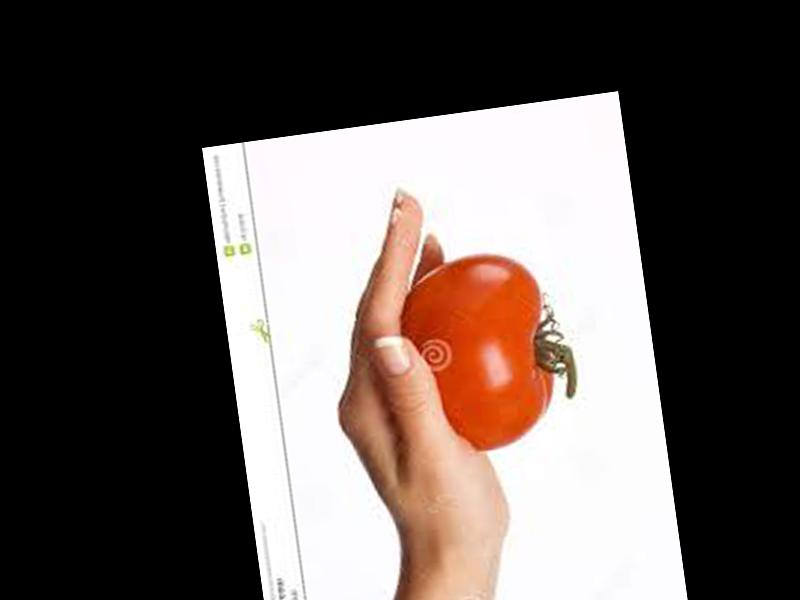Tomato: (393, 247, 561, 459)
